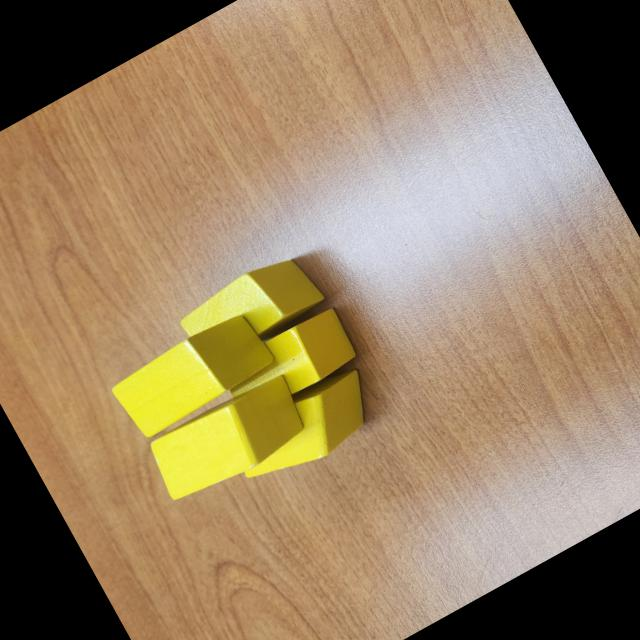yellow: (140, 368, 316, 510), (106, 305, 280, 445), (224, 362, 389, 496), (173, 245, 329, 372), (214, 302, 362, 423)
